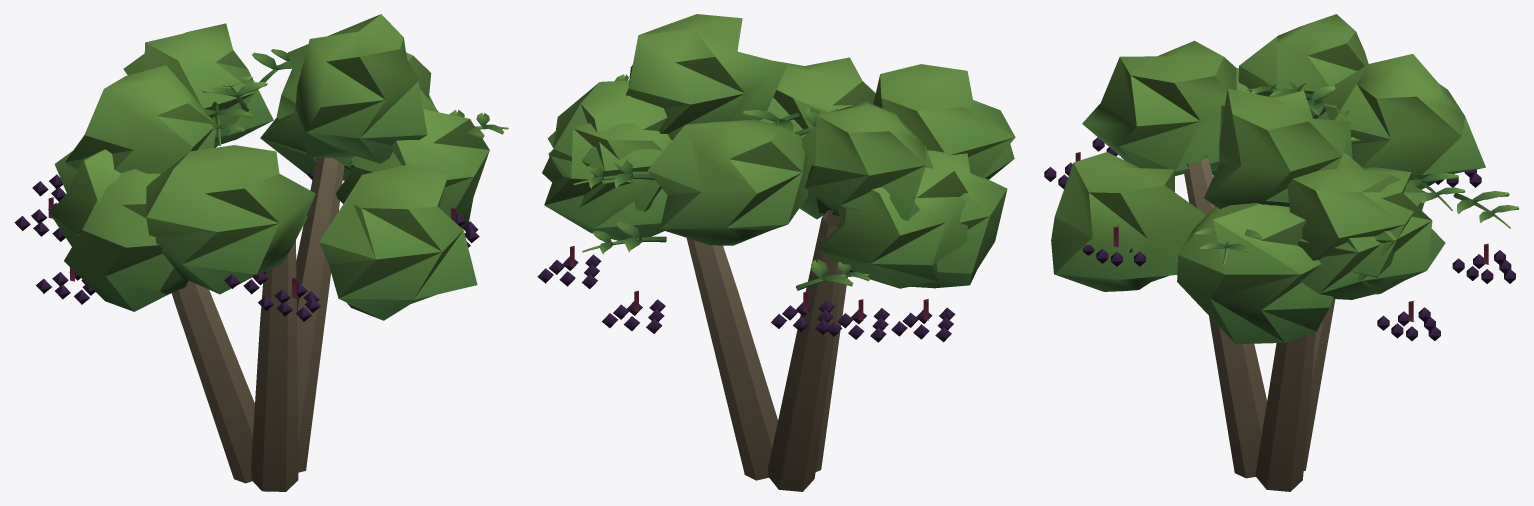
Rendered from elder.glb.
3 views of the same model, side by side, from view 1: azimuth 30°, elevation 25°; view 2: azimuth 150°, elevation 25°; view 3: azimuth 270°, elevation 25° (orthographic).
Parts seen in each view (by area): view 1: elder; view 2: elder; view 3: elder.
Part boxes in pixels (x1,y1,x2,y2): elder: [14, 14, 508, 491]; elder: [537, 14, 1015, 491]; elder: [1044, 14, 1519, 491].
Bounding box in the file's own units: 0.886 × 0.8789 × 0.8943.
